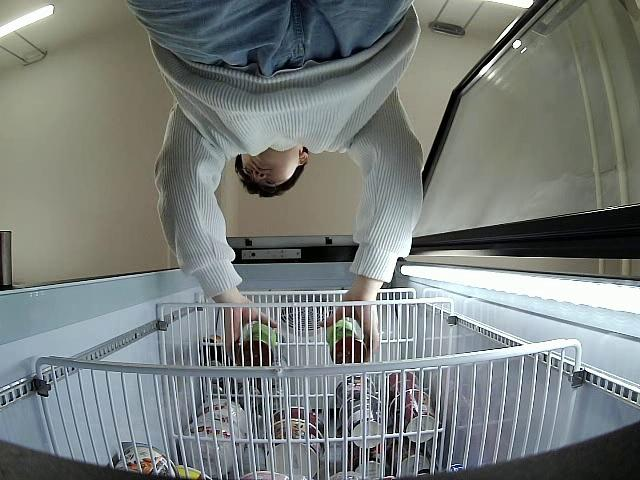00_hand: (319, 293, 379, 364), (225, 298, 277, 359)
19_17cha: (325, 315, 367, 364), (237, 323, 279, 368)
